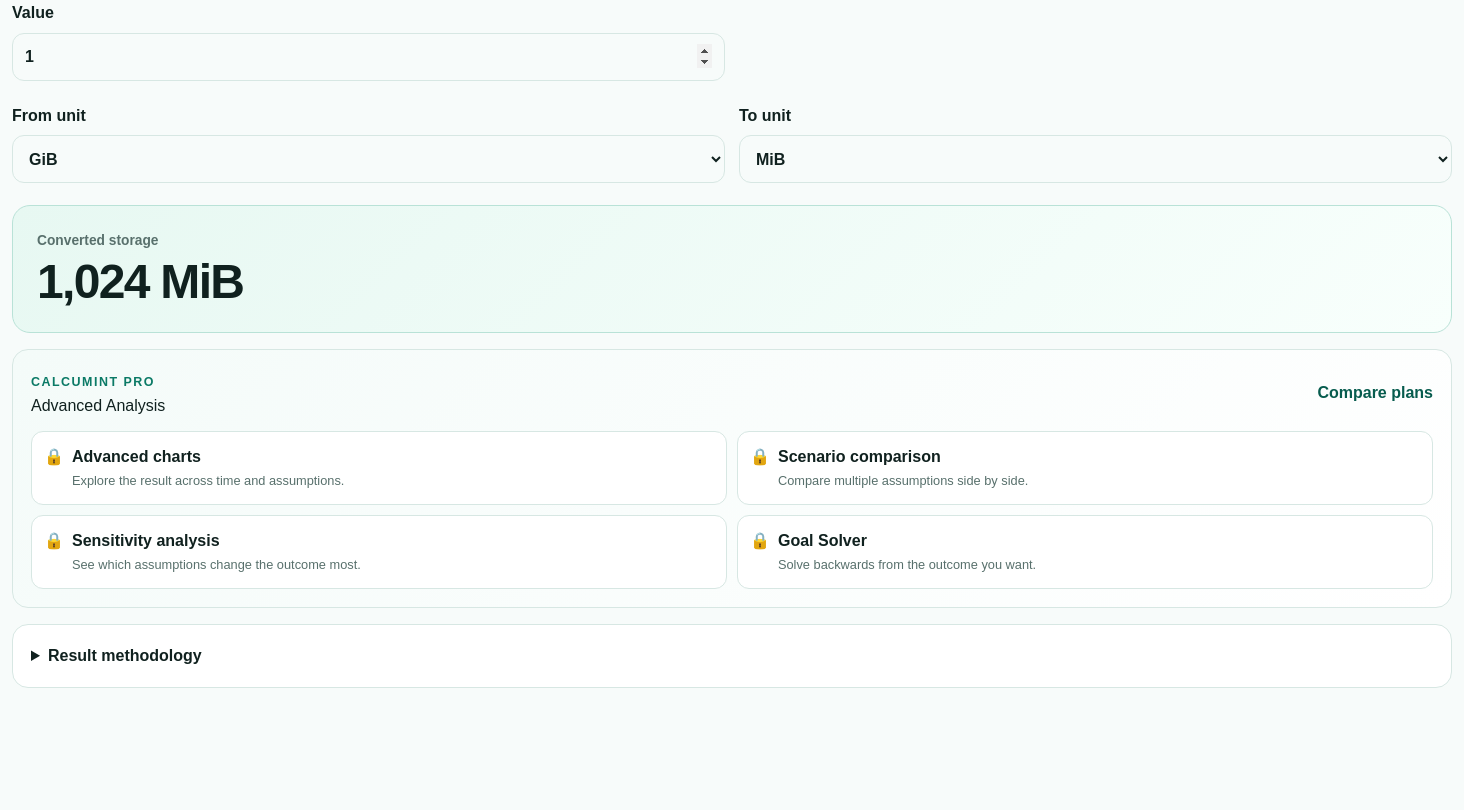
Test case: Technology final controls › supports selectable IEC storage units and updates the result unit
This screenshot has width=1464, height=810.
Check: the dropdown labelled "To unit" is shown, box [739, 135, 1452, 183]
Select "MiB" in the dropdown labelled "From unit" at (368, 159), box [12, 135, 725, 183]
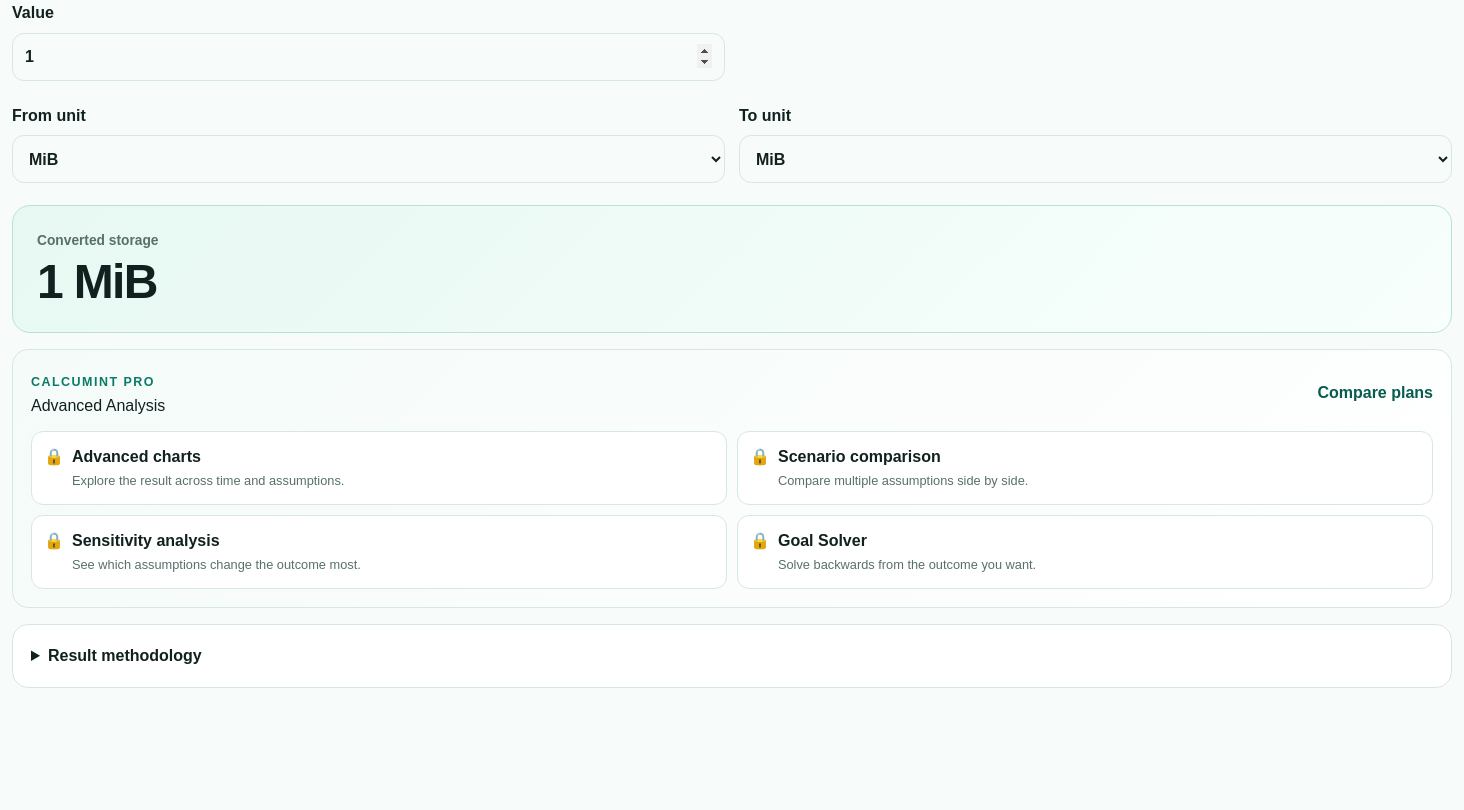
Select "KiB" in the dropdown labelled "To unit" at (1096, 159), box [739, 135, 1452, 183]
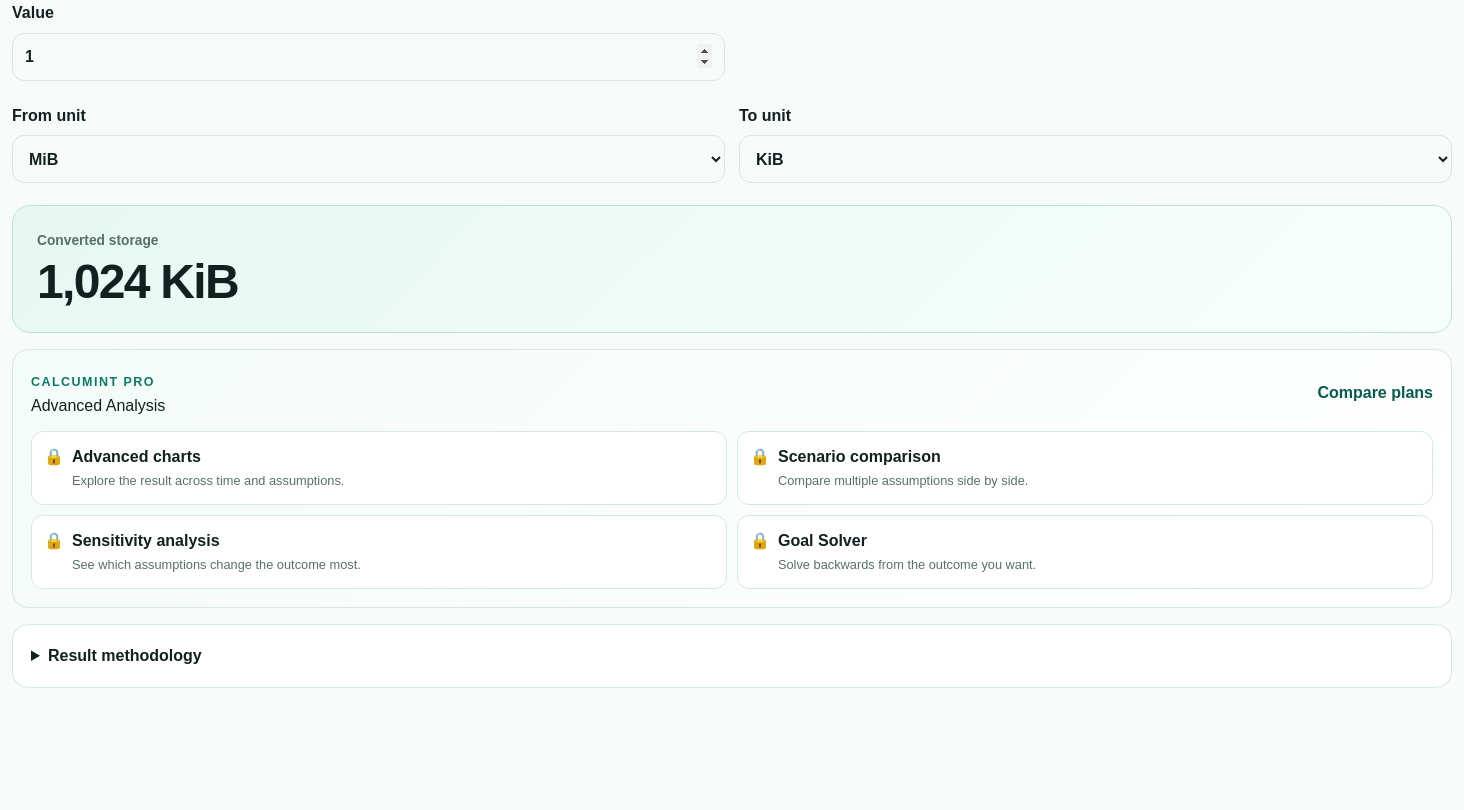
Check: the element named "Calculation result" shows "1,024", box [37, 255, 238, 308]
Check: the element named "Calculation result" shows "KiB", box [37, 255, 238, 308]
